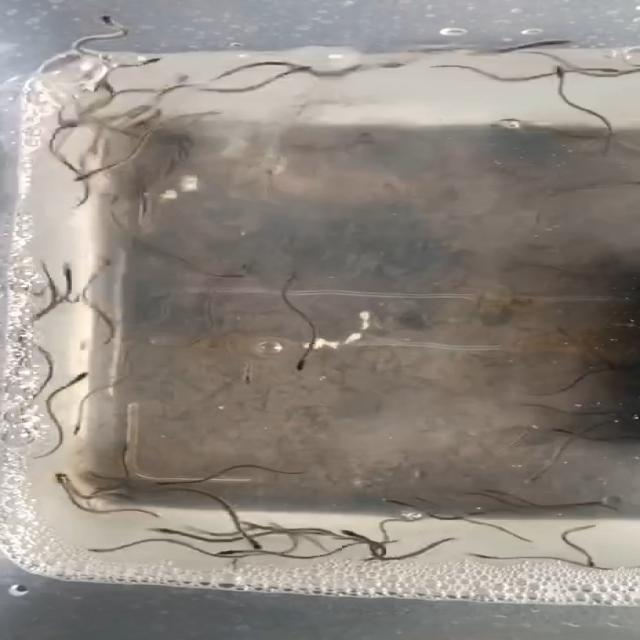inactive_glass_eel: (57, 108, 102, 133), (51, 258, 84, 288), (526, 36, 590, 51), (64, 159, 104, 182), (89, 6, 124, 31), (381, 56, 432, 73), (379, 493, 423, 512), (228, 531, 269, 550), (145, 526, 193, 541), (227, 365, 258, 388), (91, 252, 118, 277), (154, 474, 196, 489), (552, 62, 574, 90), (207, 268, 251, 282), (521, 468, 557, 485), (85, 543, 123, 559), (65, 414, 90, 438), (48, 473, 78, 493), (467, 550, 509, 564), (137, 54, 173, 70), (285, 63, 321, 79), (540, 422, 578, 437), (208, 544, 243, 560), (60, 373, 97, 388), (114, 438, 138, 461), (583, 65, 632, 76), (291, 351, 312, 375), (340, 526, 368, 542), (584, 554, 606, 569)
